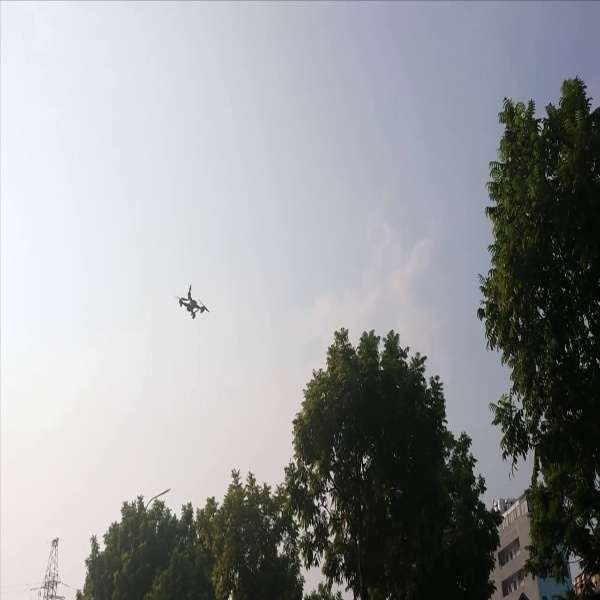drone: (163, 281, 214, 325)
